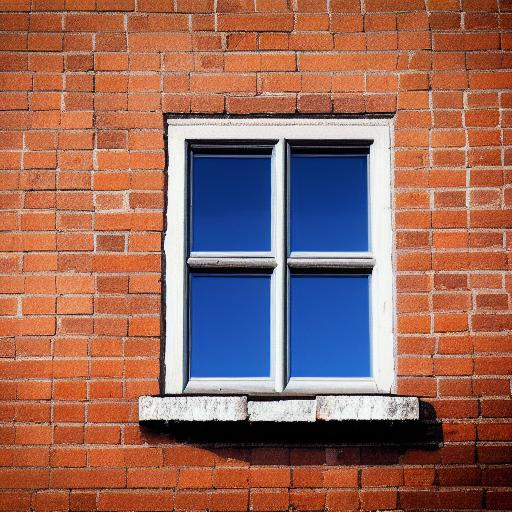Window: (138, 112, 425, 424)
